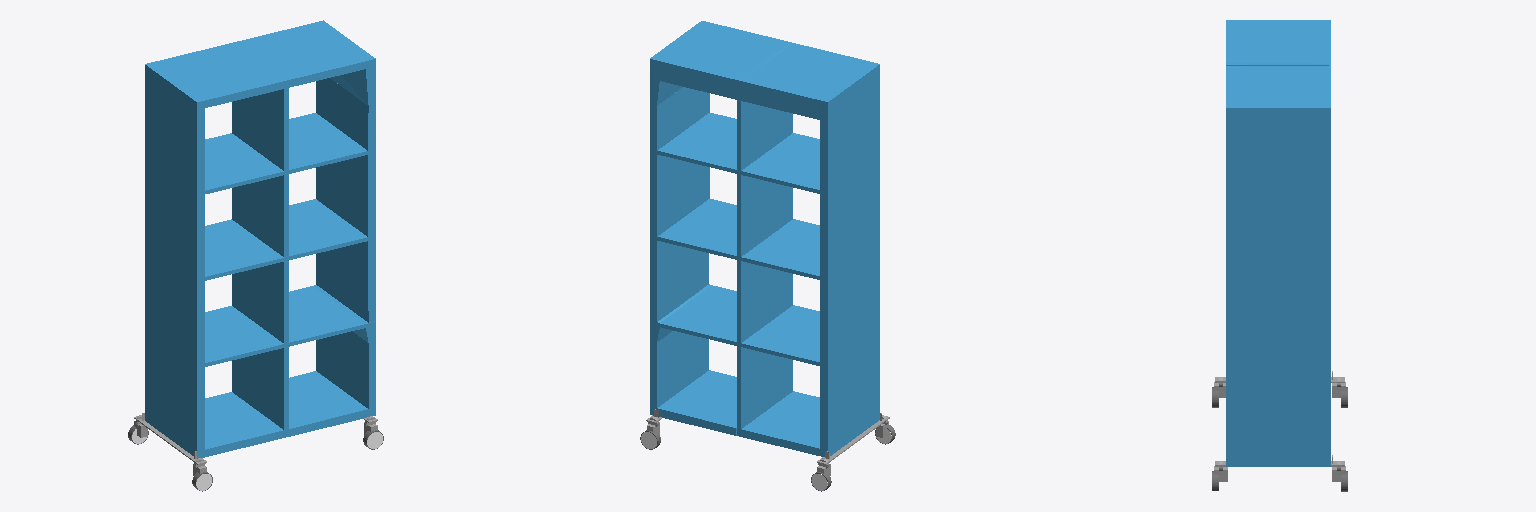
The robot description file, URDF, robot "bookcase":
<?xml version="1.0" ?>
<robot name="bookcase"  xmlns:xacro="http://www.ros.org/wiki/xacro">
    <link name="base_footprint">
      <inertial>
        <origin
            xyz="0 0 0"
            rpy="0 0 0" />
        <mass
            value="0.1" />
        <inertia
            ixx="1"
            ixy="0"
            ixz="0"
            iyy="1"
            iyz="0"
            izz="1" />            
      </inertial>
    </link>

    <link name="bookcase">
        <visual>
            <geometry>
                <mesh filename="bookcase.obj"/>
            </geometry>
        </visual>
        <collision>
            <geometry>
                <mesh filename="bookcase.obj"/>
            </geometry>
        </collision>
    </link>

    # Copied from wheels.urdf.
    <link name="r_wheel_link">
        <collision>
          <origin xyz="-0.0 -0.0025 0.0" />
          <geometry>
            <box size="0.04 0.005 0.48" />
          </geometry>
        </collision>
        <visual>
          <origin xyz="-0.0 -0.0025 0.0" />
          <material name="c">
            <color rgba="0.7 0.7 0.7 1.0" />
          </material>
          <geometry>
            <box size="0.04 0.005 0.48" />
          </geometry>
        </visual>
        <collision>
          <origin xyz="0.0 0.015 0.19625" />
          <geometry>
            <box size="0.02 0.03 0.0025" />
          </geometry>
        </collision>
        <visual>
          <origin xyz="0.0 0.015 0.19625" />
          <material name="c">
            <color rgba="0.7 0.7 0.7 1.0" />
          </material>
          <geometry>
            <box size="0.02 0.03 0.0025" />
          </geometry>
        </visual>
        <collision>
          <origin xyz="0.0 0.015 -0.19625" />
          <geometry>
            <box size="0.02 0.03 0.0025" />
          </geometry>
        </collision>
        <visual>
          <origin xyz="0.0 0.015 -0.19625" />
          <material name="c">
            <color rgba="0.7 0.7 0.7 1.0" />
          </material>
          <geometry>
            <box size="0.02 0.03 0.0025" />
          </geometry>
        </visual>
        <collision>
          <origin xyz="0.0 -0.0125 0.22" />
          <geometry>
            <cylinder length="0.015" radius="0.02" />
          </geometry>
        </collision>
        <visual>
          <origin xyz="0.0 -0.0125 0.22" />
          <material name="c">
            <color rgba="0.7 0.7 0.7 1.0" />
          </material>
          <geometry>
            <cylinder length="0.015" radius="0.02" />
          </geometry>
        </visual>
        <collision>
          <origin xyz="0.0 -0.0125 -0.22" />
          <geometry>
            <cylinder length="0.015" radius="0.02" />
          </geometry>
        </collision>
        <visual>
          <origin xyz="0.0 -0.0125 -0.22" />
          <material name="c">
            <color rgba="0.7 0.7 0.7 1.0" />
          </material>
          <geometry>
            <cylinder length="0.015" radius="0.02" />
          </geometry>
        </visual>
        <collision>
          <origin xyz="0.0 -0.075 -0.24" />
          <geometry>
            <cylinder length="0.026" radius="0.035" />
          </geometry>
        </collision>
        <visual>
          <origin xyz="0.0 -0.075 -0.24" />
          <material name="c">
            <color rgba="1.0 1.0 1.0 1.0" />
          </material>
          <geometry>
            <cylinder length="0.026" radius="0.035" />
          </geometry>
        </visual>
        <collision>
          <origin xyz="0.0 -0.075 -0.24" />
          <geometry>
            <cylinder length="0.025" radius="0.0375" />
          </geometry>
        </collision>
        <visual>
          <origin xyz="0.0 -0.075 -0.24" />
          <material name="c">
            <color rgba="0.5 0.5 0.5 1.0" />
          </material>
          <geometry>
            <cylinder length="0.025" radius="0.0375" />
          </geometry>
        </visual>
        <collision>
          <origin xyz="0.0 -0.045 -0.22" />
          <geometry>
            <box size="0.03 0.05 0.05" />
          </geometry>
        </collision>
        <visual>
          <origin xyz="0.0 -0.045 -0.22" />
          <material name="c">
            <color rgba="0.7 0.7 0.7 1.0" />
          </material>
          <geometry>
            <box size="0.03 0.05 0.05" />
          </geometry>
        </visual>
        <collision>
          <origin xyz="0.0 -0.075 0.24" />
          <geometry>
            <cylinder length="0.026" radius="0.035" />
          </geometry>
        </collision>
        <visual>
          <origin xyz="0.0 -0.075 0.24" />
          <material name="c">
            <color rgba="1.0 1.0 1.0 1.0" />
          </material>
          <geometry>
            <cylinder length="0.026" radius="0.035" />
          </geometry>
        </visual>
        <collision>
          <origin xyz="0.0 -0.075 0.24" />
          <geometry>
            <cylinder length="0.025" radius="0.0375" />
          </geometry>
        </collision>
        <visual>
          <origin xyz="0.0 -0.075 0.24" />
          <material name="c">
            <color rgba="0.5 0.5 0.5 1.0" />
          </material>
          <geometry>
            <cylinder length="0.025" radius="0.0375" />
          </geometry>
        </visual>
        <collision>
          <origin xyz="0.0 -0.045 0.22" />
          <geometry>
            <box size="0.03 0.05 0.05" />
          </geometry>
        </collision>
        <visual>
          <origin xyz="0.0 -0.045 0.22" />
          <material name="c">
            <color rgba="0.7 0.7 0.7 1.0" />
          </material>
          <geometry>
            <box size="0.03 0.05 0.05" />
          </geometry>
        </visual>
    </link>

    # Copied from wheels.urdf.
    <link name="l_wheel_link">
        <collision>
          <origin xyz="-0.0 -0.0025 0.0" />
          <geometry>
            <box size="0.04 0.005 0.48" />
          </geometry>
        </collision>
        <visual>
          <origin xyz="-0.0 -0.0025 0.0" />
          <material name="c">
            <color rgba="0.7 0.7 0.7 1.0" />
          </material>
          <geometry>
            <box size="0.04 0.005 0.48" />
          </geometry>
        </visual>
        <collision>
          <origin xyz="0.0 0.015 0.19625" />
          <geometry>
            <box size="0.02 0.03 0.0025" />
          </geometry>
        </collision>
        <visual>
          <origin xyz="0.0 0.015 0.19625" />
          <material name="c">
            <color rgba="0.7 0.7 0.7 1.0" />
          </material>
          <geometry>
            <box size="0.02 0.03 0.0025" />
          </geometry>
        </visual>
        <collision>
          <origin xyz="0.0 0.015 -0.19625" />
          <geometry>
            <box size="0.02 0.03 0.0025" />
          </geometry>
        </collision>
        <visual>
          <origin xyz="0.0 0.015 -0.19625" />
          <material name="c">
            <color rgba="0.7 0.7 0.7 1.0" />
          </material>
          <geometry>
            <box size="0.02 0.03 0.0025" />
          </geometry>
        </visual>
        <collision>
          <origin xyz="0.0 -0.0125 0.22" />
          <geometry>
            <cylinder length="0.015" radius="0.02" />
          </geometry>
        </collision>
        <visual>
          <origin xyz="0.0 -0.0125 0.22" />
          <material name="c">
            <color rgba="0.7 0.7 0.7 1.0" />
          </material>
          <geometry>
            <cylinder length="0.015" radius="0.02" />
          </geometry>
        </visual>
        <collision>
          <origin xyz="0.0 -0.0125 -0.22" />
          <geometry>
            <cylinder length="0.015" radius="0.02" />
          </geometry>
        </collision>
        <visual>
          <origin xyz="0.0 -0.0125 -0.22" />
          <material name="c">
            <color rgba="0.7 0.7 0.7 1.0" />
          </material>
          <geometry>
            <cylinder length="0.015" radius="0.02" />
          </geometry>
        </visual>
        <collision>
          <origin xyz="0.0 -0.075 -0.24" />
          <geometry>
            <cylinder length="0.026" radius="0.035" />
          </geometry>
        </collision>
        <visual>
          <origin xyz="0.0 -0.075 -0.24" />
          <material name="c">
            <color rgba="1.0 1.0 1.0 1.0" />
          </material>
          <geometry>
            <cylinder length="0.026" radius="0.035" />
          </geometry>
        </visual>
        <collision>
          <origin xyz="0.0 -0.075 -0.24" />
          <geometry>
            <cylinder length="0.025" radius="0.0375" />
          </geometry>
        </collision>
        <visual>
          <origin xyz="0.0 -0.075 -0.24" />
          <material name="c">
            <color rgba="0.5 0.5 0.5 1.0" />
          </material>
          <geometry>
            <cylinder length="0.025" radius="0.0375" />
          </geometry>
        </visual>
        <collision>
          <origin xyz="0.0 -0.045 -0.22" />
          <geometry>
            <box size="0.03 0.05 0.05" />
          </geometry>
        </collision>
        <visual>
          <origin xyz="0.0 -0.045 -0.22" />
          <material name="c">
            <color rgba="0.7 0.7 0.7 1.0" />
          </material>
          <geometry>
            <box size="0.03 0.05 0.05" />
          </geometry>
        </visual>
        <collision>
          <origin xyz="0.0 -0.075 0.24" />
          <geometry>
            <cylinder length="0.026" radius="0.035" />
          </geometry>
        </collision>
        <visual>
          <origin xyz="0.0 -0.075 0.24" />
          <material name="c">
            <color rgba="1.0 1.0 1.0 1.0" />
          </material>
          <geometry>
            <cylinder length="0.026" radius="0.035" />
          </geometry>
        </visual>
        <collision>
          <origin xyz="0.0 -0.075 0.24" />
          <geometry>
            <cylinder length="0.025" radius="0.0375" />
          </geometry>
        </collision>
        <visual>
          <origin xyz="0.0 -0.075 0.24" />
          <material name="c">
            <color rgba="0.5 0.5 0.5 1.0" />
          </material>
          <geometry>
            <cylinder length="0.025" radius="0.0375" />
          </geometry>
        </visual>
        <collision>
          <origin xyz="0.0 -0.045 0.22" />
          <geometry>
            <box size="0.03 0.05 0.05" />
          </geometry>
        </collision>
        <visual>
          <origin xyz="0.0 -0.045 0.22" />
          <material name="c">
            <color rgba="0.7 0.7 0.7 1.0" />
          </material>
          <geometry>
            <box size="0.03 0.05 0.05" />
          </geometry>
        </visual>
    </link>

    <joint
        name="base_to_l_wheel"
        type="fixed">
      <origin
          xyz="0.738 0.2 0.1125" 
          rpy="1.57 0 0"/>
      <parent
          link="base_footprint" />
      <child
          link="l_wheel_link" />
    </joint>

    <joint
        name="base_to_bookcase"
        type="fixed">
      <origin
          xyz="0.0 0.0 0.1125" />
      <parent
          link="base_footprint" />
      <child
          link="bookcase" />
    </joint>

    <joint
        name="base_to_r_wheel"
        type="fixed">
      <origin
          xyz="0 0.2 0.1125"
          rpy="1.57 0 0" />
      <parent
          link="base_footprint" />
      <child
          link="r_wheel_link" />
    </joint>

</robot>

--- Facts derived from the render (not from the file) ---
Views: 3 orthographic renders of the robot side by side, from view 1: azimuth 30°, elevation 25°; view 2: azimuth 150°, elevation 25°; view 3: azimuth 270°, elevation 25°.
Robot: bookcase — 4 links, 3 joints (3 fixed); root link base_footprint; default pose: every joint at zero.
Links seen in each view (by area): view 1: bookcase, r_wheel_link; view 2: bookcase, r_wheel_link, l_wheel_link; view 3: bookcase, l_wheel_link, r_wheel_link.
Boxes of the visible links, left/top/right/bottom form: bookcase: left=145, top=20, right=375, bottom=458; r_wheel_link: left=128, top=413, right=212, bottom=491; bookcase: left=650, top=21, right=879, bottom=456; r_wheel_link: left=811, top=413, right=895, bottom=491; l_wheel_link: left=640, top=409, right=661, bottom=449; bookcase: left=1226, top=20, right=1330, bottom=466; l_wheel_link: left=1212, top=455, right=1347, bottom=491; r_wheel_link: left=1212, top=371, right=1347, bottom=407.
Size in the robot's own frame: 0.813 by 0.5061 by 1.58 metres.
Meshes: 1 distinct files referenced, 1 mesh visuals loaded (1 OBJ).